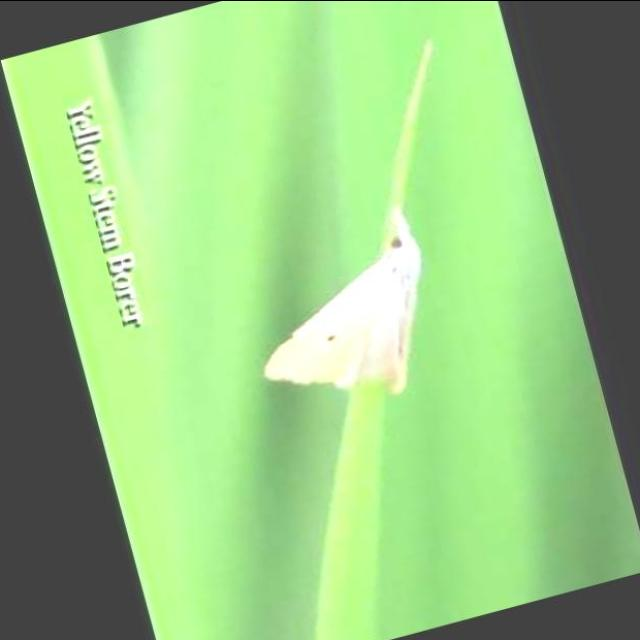stem borer: (264, 157, 421, 392)
